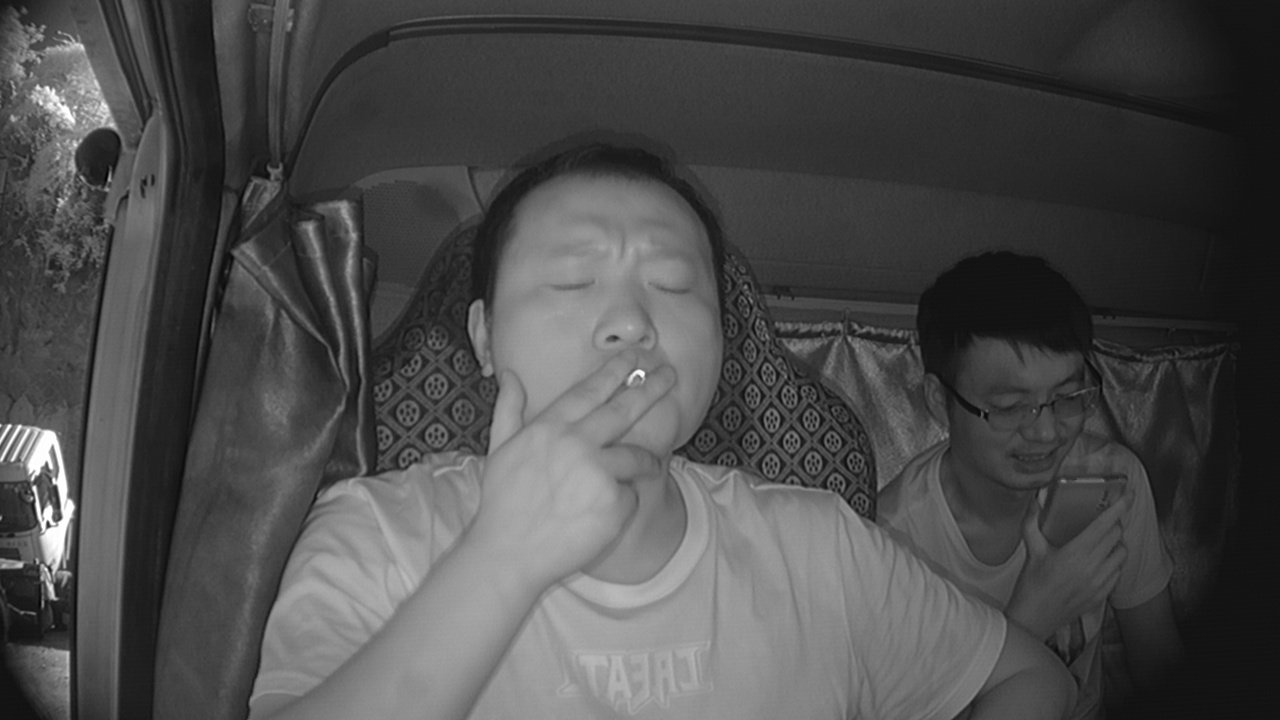hand: (541, 353, 679, 528)
